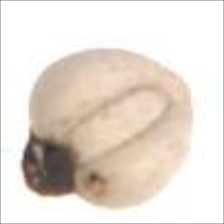L5: (61, 83, 174, 176), (20, 133, 81, 198), (163, 65, 195, 114)
L6: (20, 47, 196, 212)
